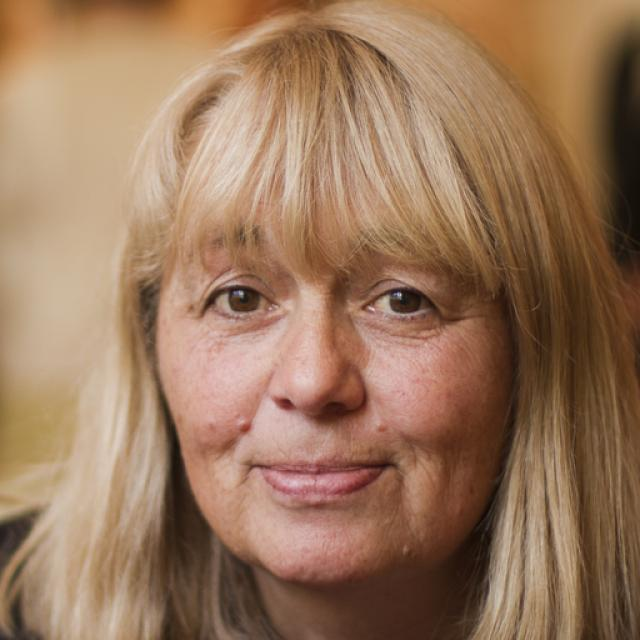Acne: (361, 410, 403, 444), (228, 414, 253, 440), (198, 413, 221, 439), (394, 537, 416, 562), (449, 500, 467, 519)
